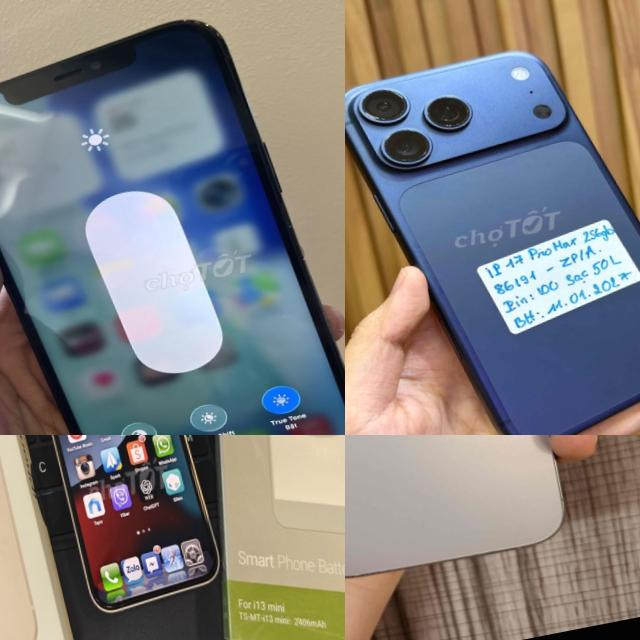gen_12_13: (0, 0, 345, 435), (7, 435, 230, 624)
gen_15: (345, 435, 609, 623)
gen_17: (345, 14, 640, 435)
